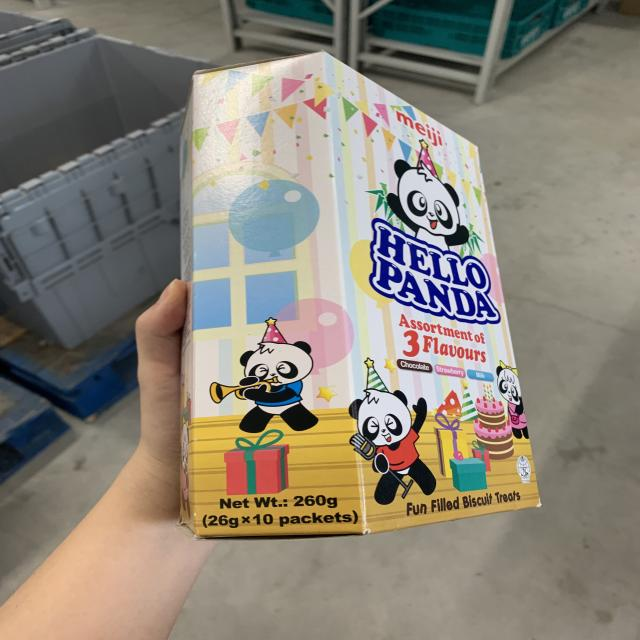object_name: (202, 69, 535, 521)
